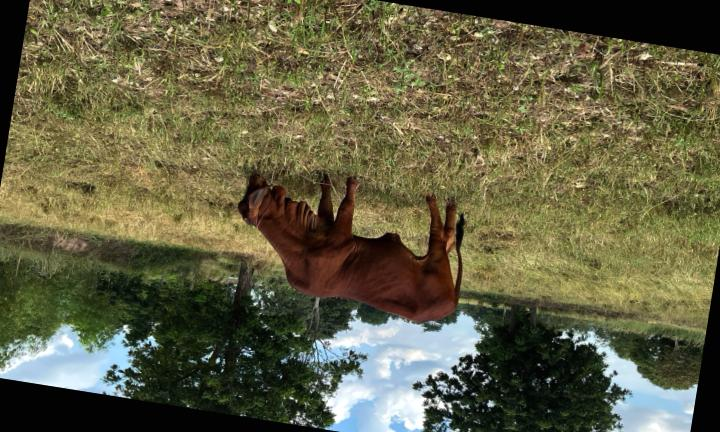Brahman: (239, 174, 464, 322)
